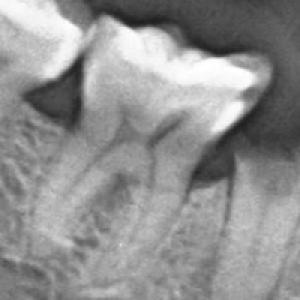tooth: (45, 15, 270, 278)
